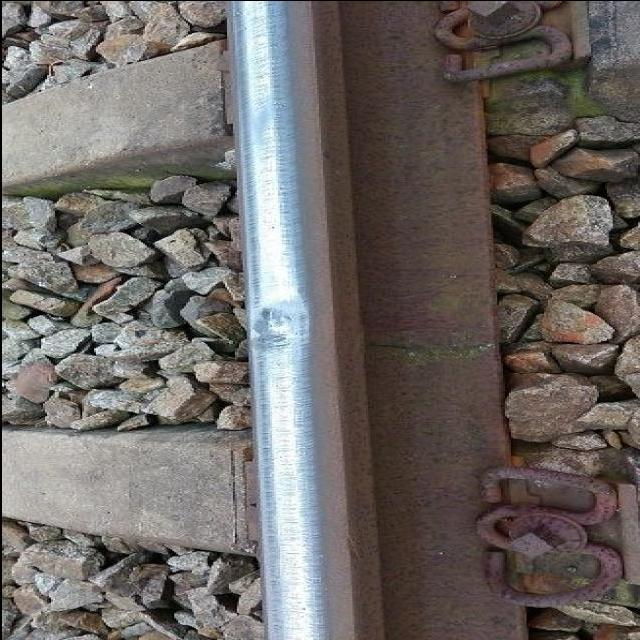head_checks_high: (250, 302, 313, 360)
